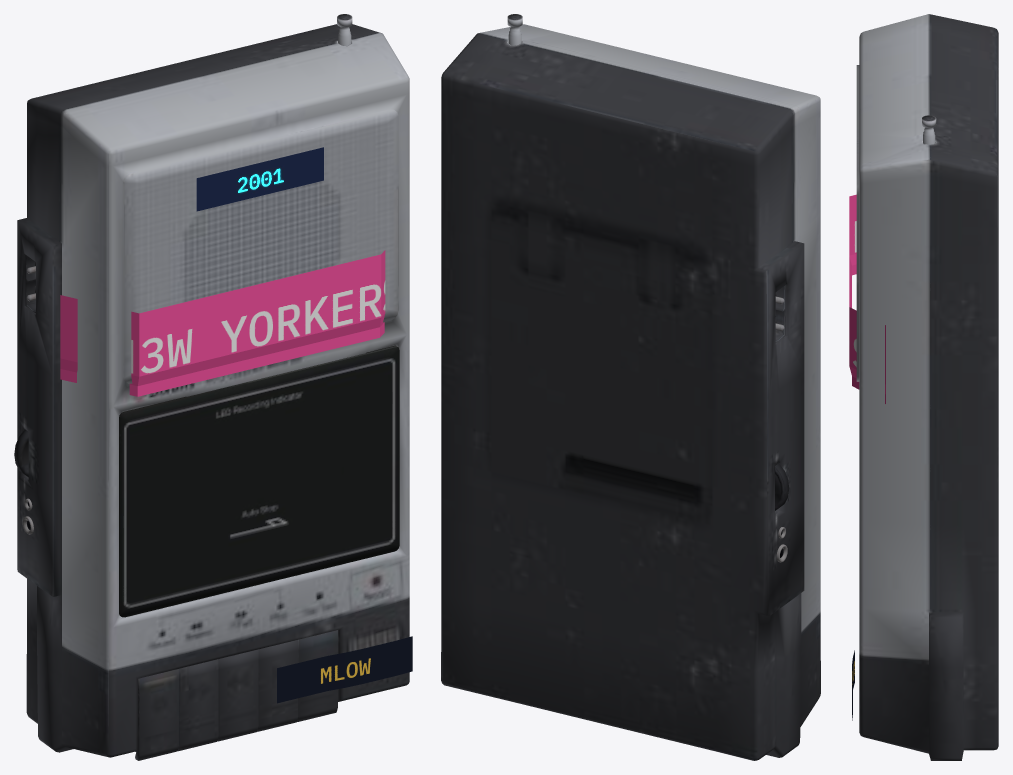
The model's file is nyb_disco_deck.glb.
3 renders of one model, left to right at view 1: azimuth 30°, elevation 25°; view 2: azimuth 150°, elevation 25°; view 3: azimuth 270°, elevation 25°, orthographic. The views are drawn at different scales.
Parts seen in each view (by area): view 1: cassette_player_body, stk_lbl_53ef7d64d4.png, stk_lbl_b237e4e148.png, stk_lbl_04c2fae175.png; view 2: cassette_player_body; view 3: cassette_player_body, stk_lbl_53ef7d64d4.png.
Part boxes in pixels (bbox=[...]): cassette_player_body: bbox=[14, 14, 409, 760]; stk_lbl_53ef7d64d4.png: bbox=[60, 250, 385, 396]; stk_lbl_b237e4e148.png: bbox=[277, 636, 412, 703]; stk_lbl_04c2fae175.png: bbox=[196, 147, 323, 211]; cassette_player_body: bbox=[441, 14, 820, 760]; cassette_player_body: bbox=[856, 14, 998, 760]; stk_lbl_53ef7d64d4.png: bbox=[849, 194, 885, 403].
Size of the model in its own units: 0.1295 by 0.2368 by 0.0514.
6 materials, 6 textured.
